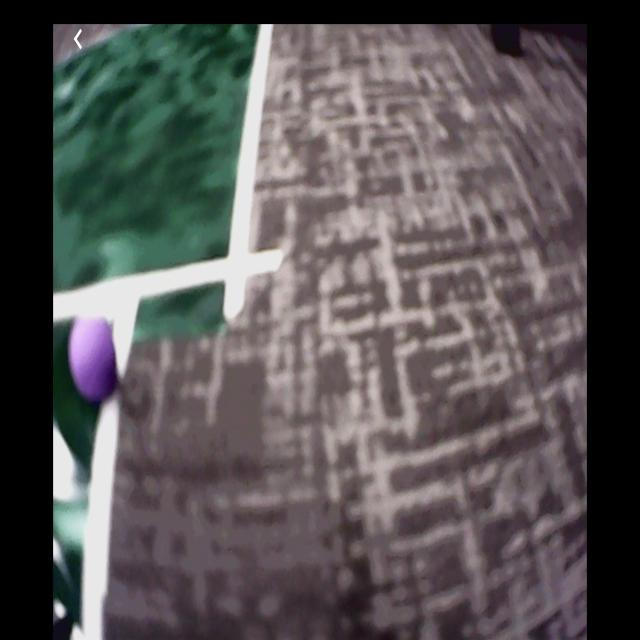ball: (67, 316, 121, 402)
